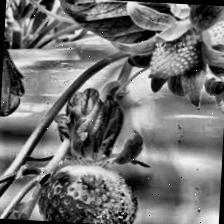Powdery Mildew Fruit: (74, 165, 142, 224)
